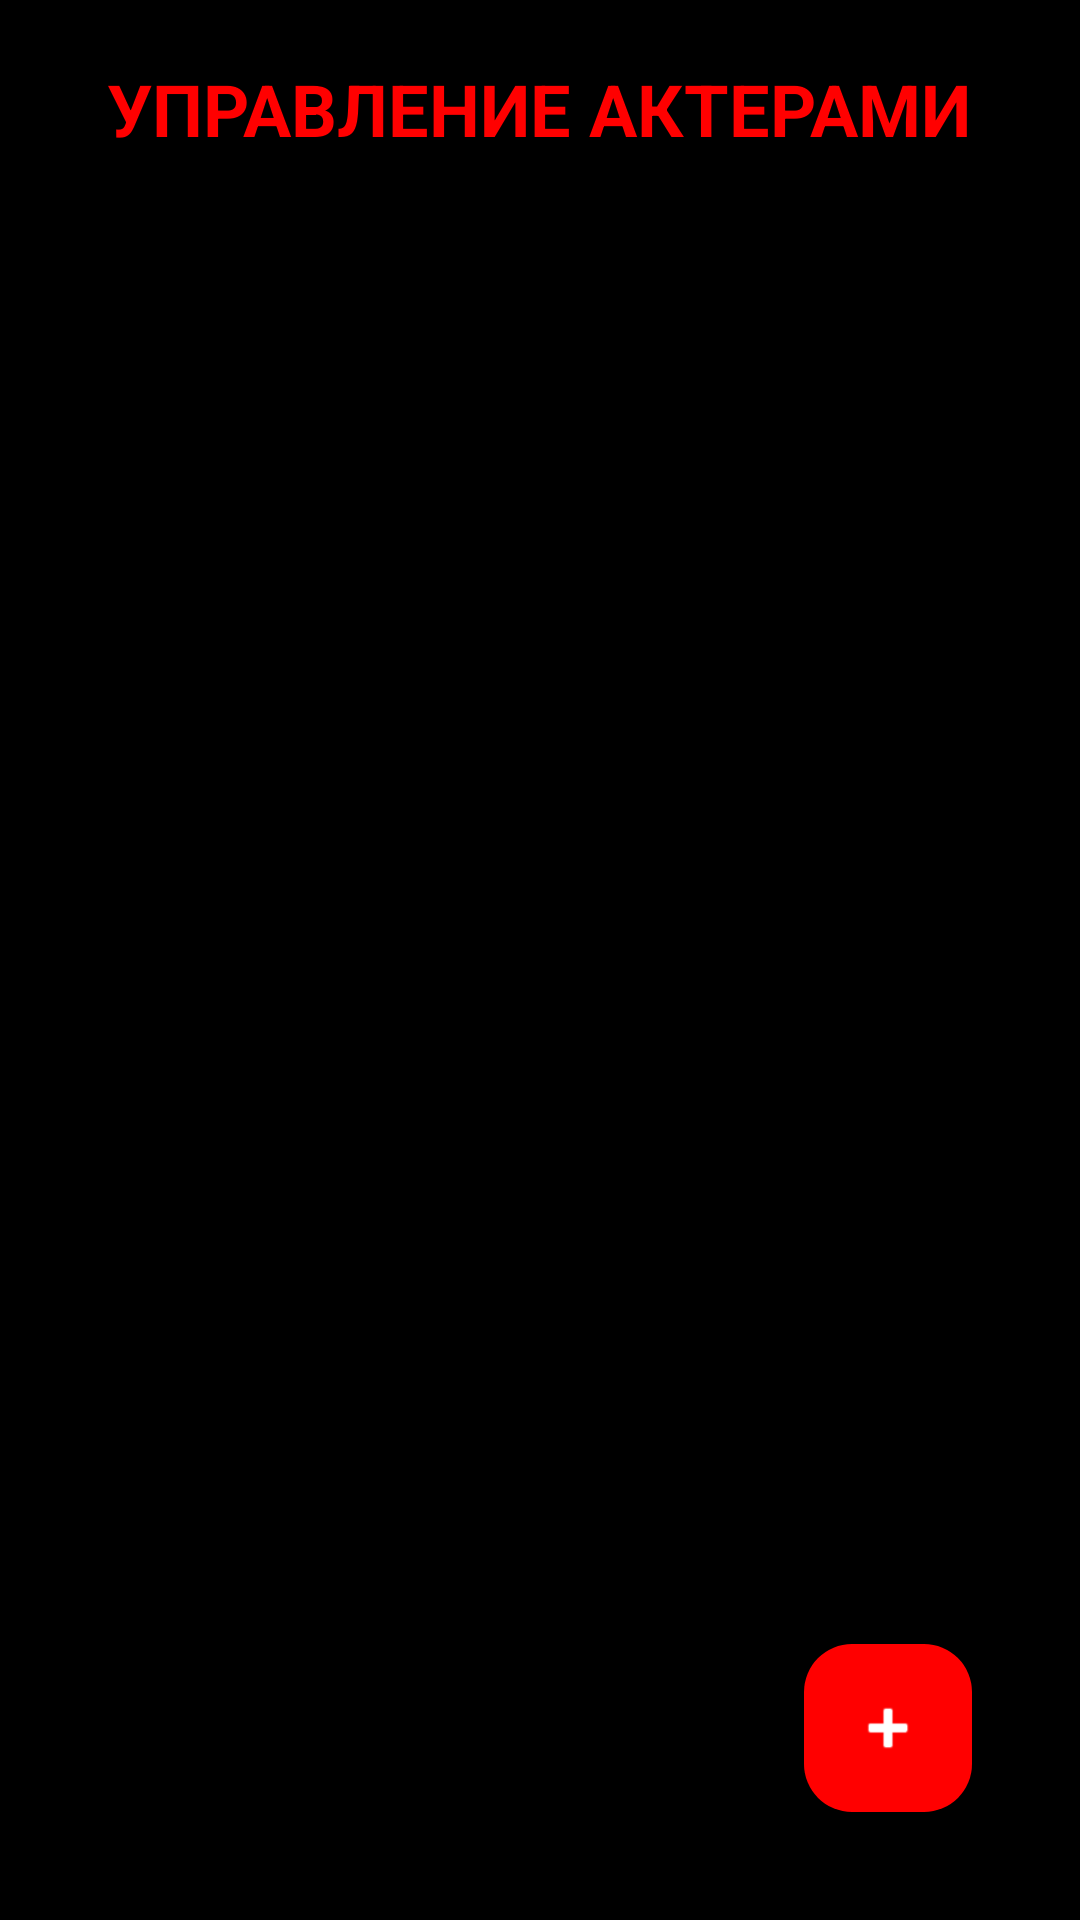

Where to tap for icons on this 1080×1920 app screen, as (x=x, y=y):
Добавить нового актера: (x=888, y=1728)
